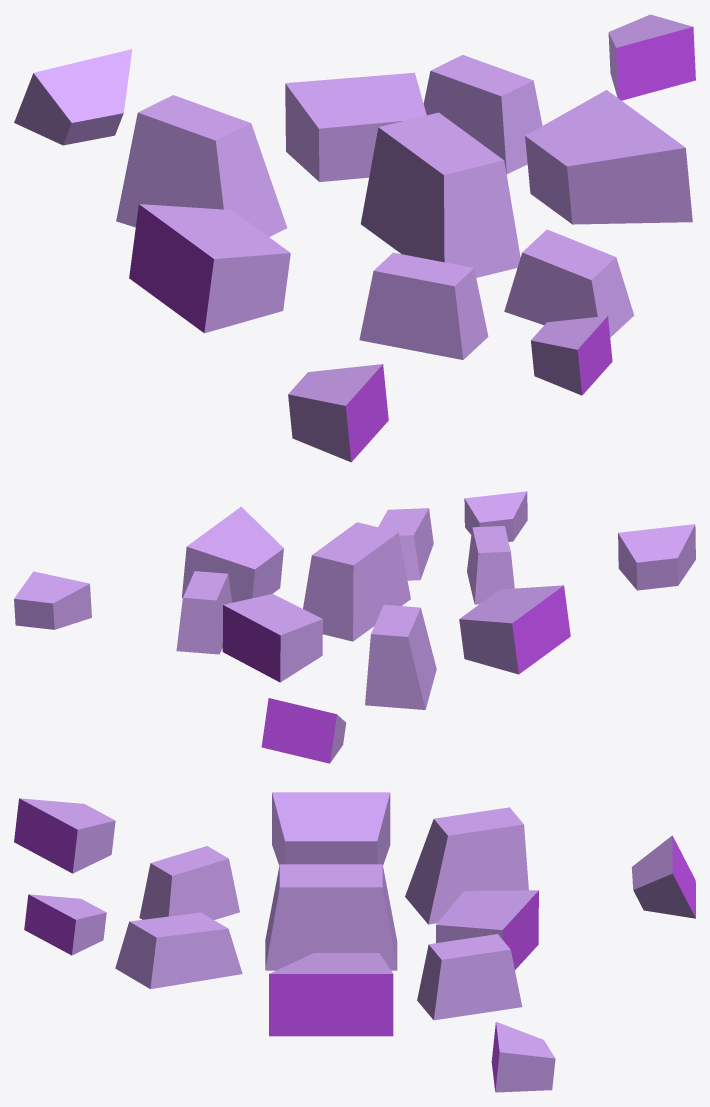
The model's file is onion08.obj.
3 views of the same model, one above another, from view 1: azimuth 30°, elevation 25°; view 2: azimuth 150°, elevation 25°; view 3: azimuth 270°, elevation 25° (orthographic). The views are drawn at different scales.
Parts seen in each view (by area): view 1: Cube.011; view 2: Cube.011; view 3: Cube.011.
Part boxes in pixels (x1,y1,x2,y2): Cube.011: [14, 14, 695, 462]; Cube.011: [14, 491, 695, 763]; Cube.011: [14, 792, 695, 1092].
Bounding box in the file's own units: 0.0348 × 0.00531 × 0.039.
1 material, 1 textured.
